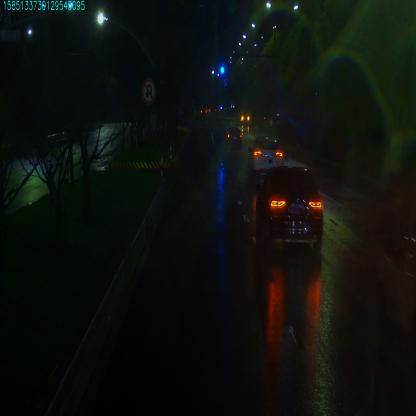traffic-light: (219, 64, 225, 75)
